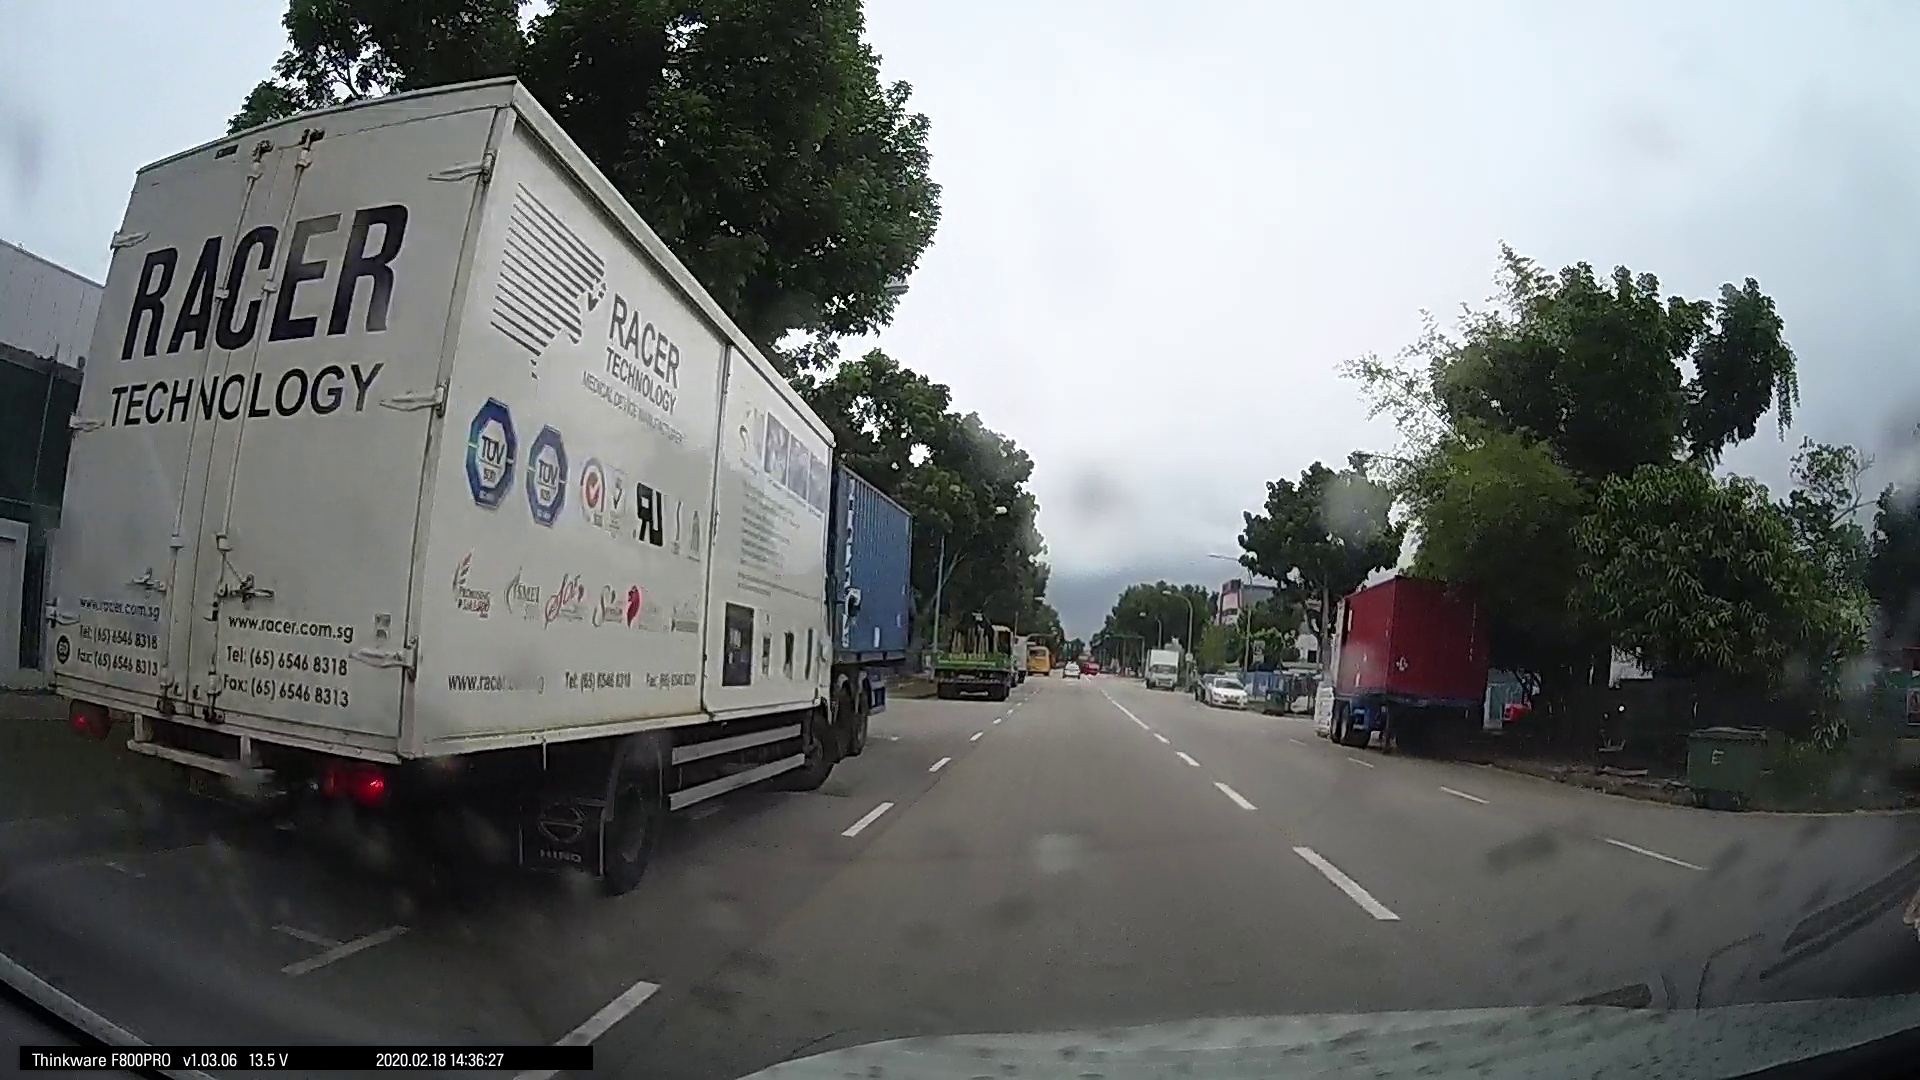Heavy Vehicle: (59, 65, 847, 932), (1317, 568, 1510, 758)
Light Vehicle: (1193, 667, 1249, 709)
